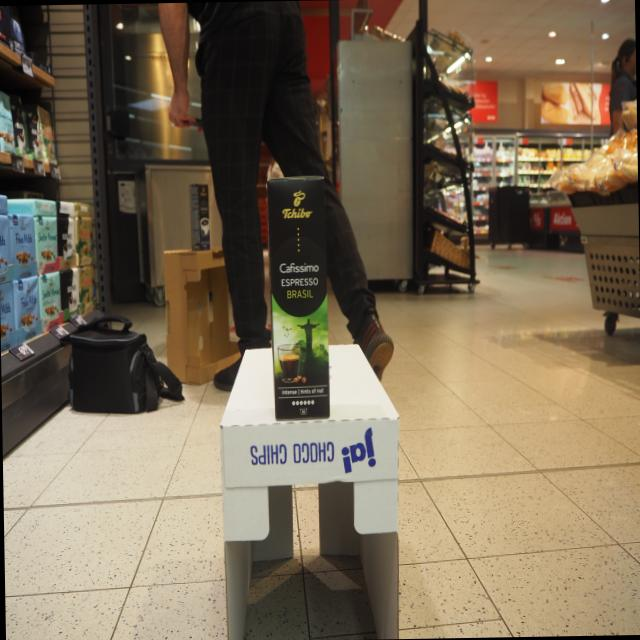Simo Es Brazil: (264, 174, 331, 422)
